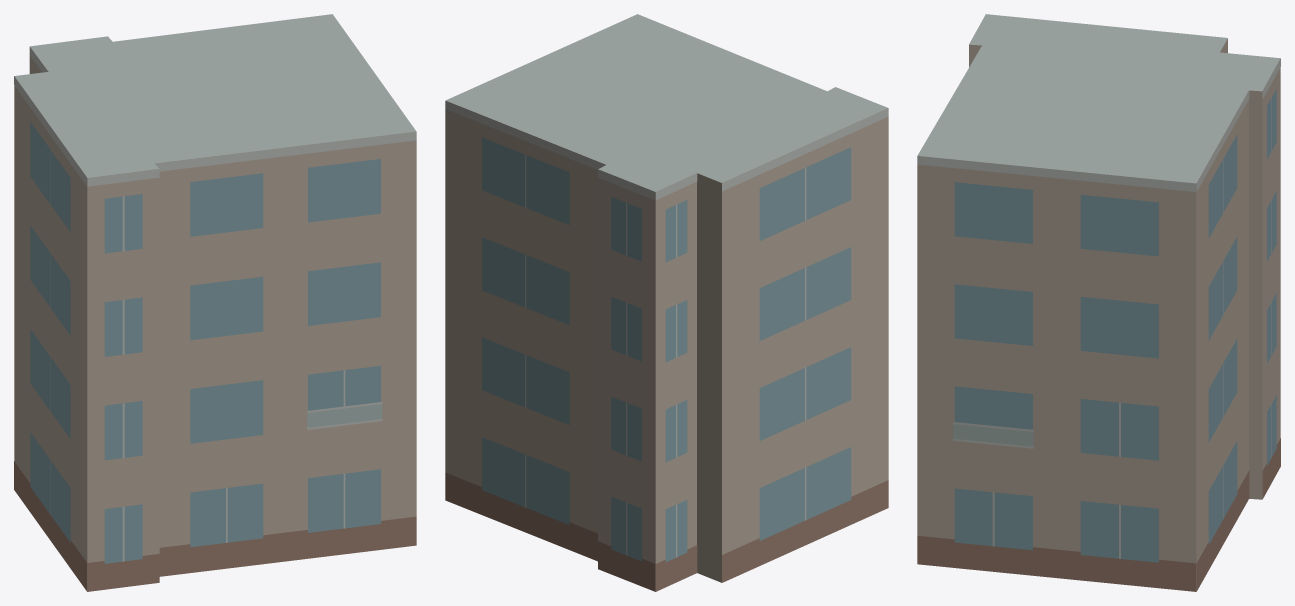
File: survey-upis-32726619.glb
The picture shows the model from 3 angles, left to right: view 1: azimuth 30°, elevation 25°; view 2: azimuth 150°, elevation 25°; view 3: azimuth 270°, elevation 25°; orthographic projection. The views are drawn at different scales.
Parts seen in each view (by area): view 1: survey-upis-32726619.tmp; view 2: survey-upis-32726619.tmp; view 3: survey-upis-32726619.tmp.
Boxes of the visible parts, <box> form: survey-upis-32726619.tmp: <box>14,14,416,591</box>; survey-upis-32726619.tmp: <box>445,14,888,591</box>; survey-upis-32726619.tmp: <box>917,14,1280,591</box>.
Bounding box in the file's own units: 10.25 × 11.5 × 9.28.
